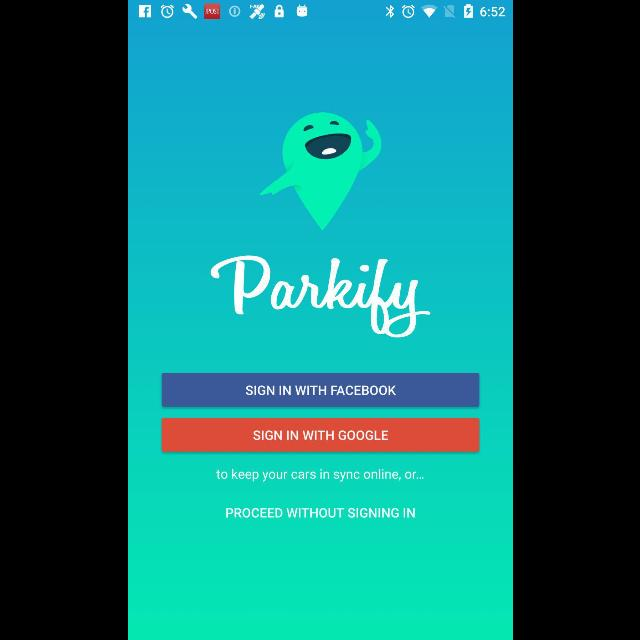image: (210, 255, 430, 338), (258, 112, 382, 230)
text: (215, 468, 422, 482), (226, 508, 414, 518)
textbutton: (161, 373, 479, 407), (161, 418, 479, 452)
uppertaskbar: (128, 1, 512, 21)
